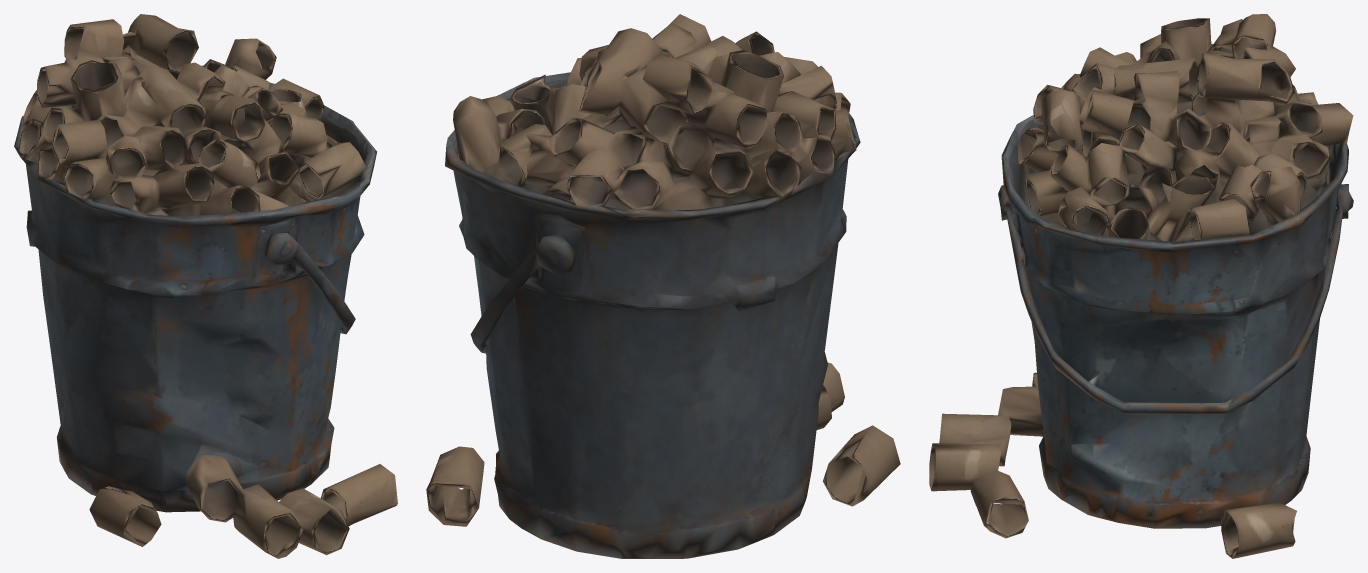
File: tapes.glb
The picture shows the model from 3 angles, left to right: view 1: azimuth 30°, elevation 25°; view 2: azimuth 150°, elevation 25°; view 3: azimuth 270°, elevation 25°; orthographic projection. The views are drawn at different scales.
Visible parts, largest first — view 1: tripo_node_57dc7740-fd6f-4155-985f-0b7b67ee23ad; view 2: tripo_node_57dc7740-fd6f-4155-985f-0b7b67ee23ad; view 3: tripo_node_57dc7740-fd6f-4155-985f-0b7b67ee23ad.
Boxes of the visible parts, x1,y1,x2,y2 form: tripo_node_57dc7740-fd6f-4155-985f-0b7b67ee23ad: (14,14,397,558); tripo_node_57dc7740-fd6f-4155-985f-0b7b67ee23ad: (426,14,900,558); tripo_node_57dc7740-fd6f-4155-985f-0b7b67ee23ad: (929,14,1353,558).
Size of the model in its own units: 0.3779 by 0.5 by 0.4392.
Materials: 1 (1 with a texture image).
